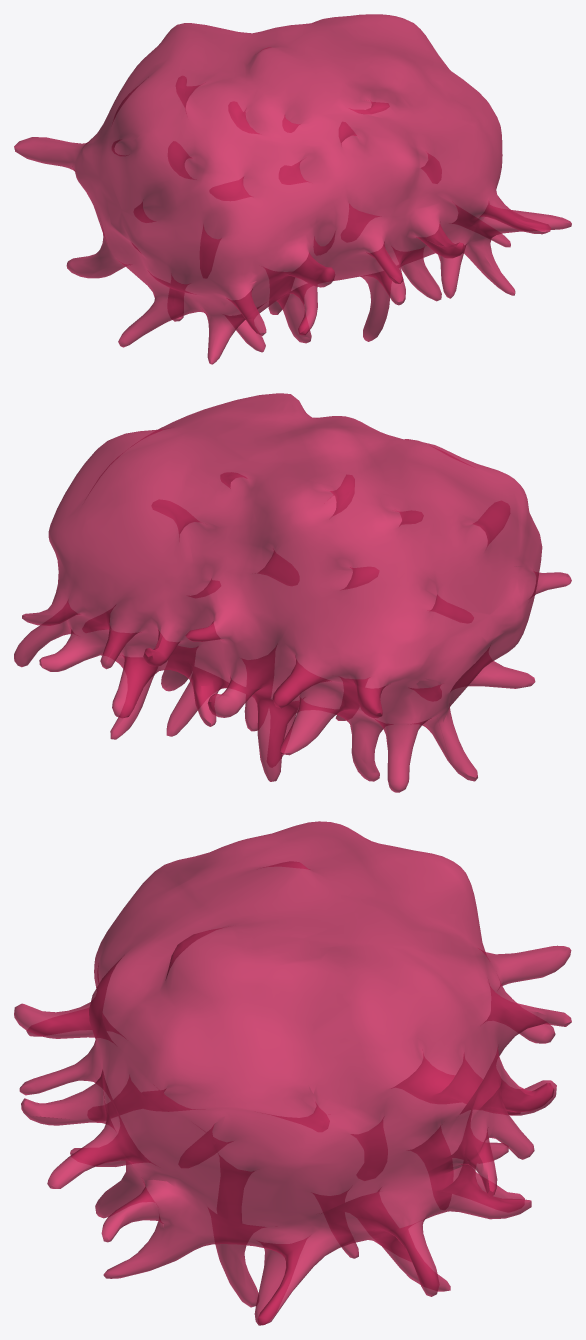
Rendered from thingtwo.fbx.
3 views of the same model, one above another, from view 1: azimuth 30°, elevation 25°; view 2: azimuth 150°, elevation 25°; view 3: azimuth 270°, elevation 25° (orthographic). The views are drawn at different scales.
Parts seen in each view (by area): view 1: Capsule; view 2: Capsule; view 3: Capsule.
Boxes of the visible parts, <box> form: Capsule: <box>14,14,571,364</box>; Capsule: <box>14,393,571,792</box>; Capsule: <box>14,821,571,1325</box>.
Bounding box in the file's own units: 224 × 168 × 219.
